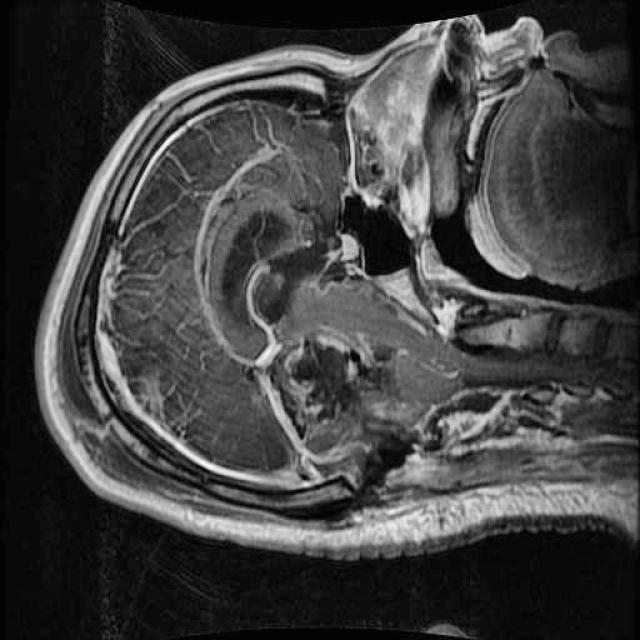Non-Tumor: (248, 316, 430, 475)
